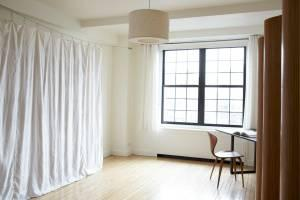window: (160, 47, 245, 127)
